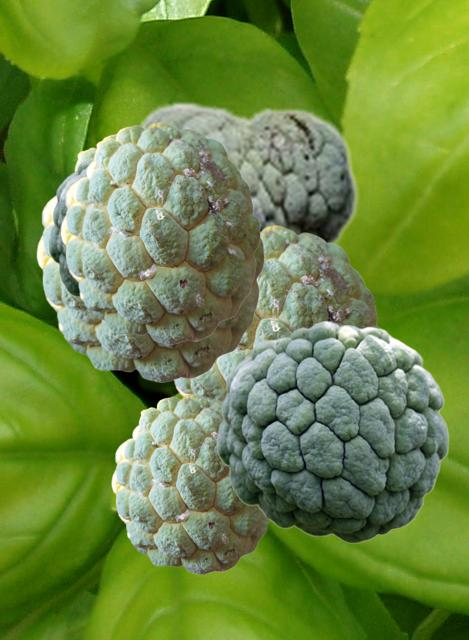atis: (36, 132, 263, 381), (216, 320, 448, 543), (60, 122, 259, 343), (172, 225, 380, 400), (131, 100, 358, 245), (111, 394, 269, 573), (48, 157, 92, 297)
